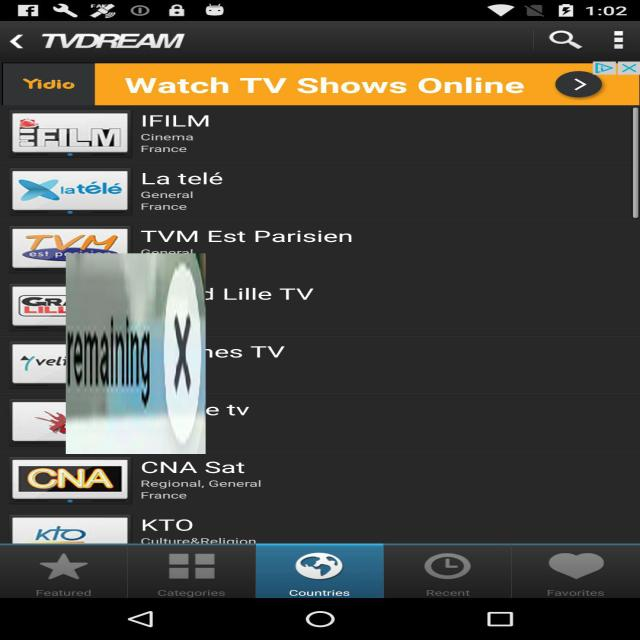misdirection: (66, 253, 206, 454)
